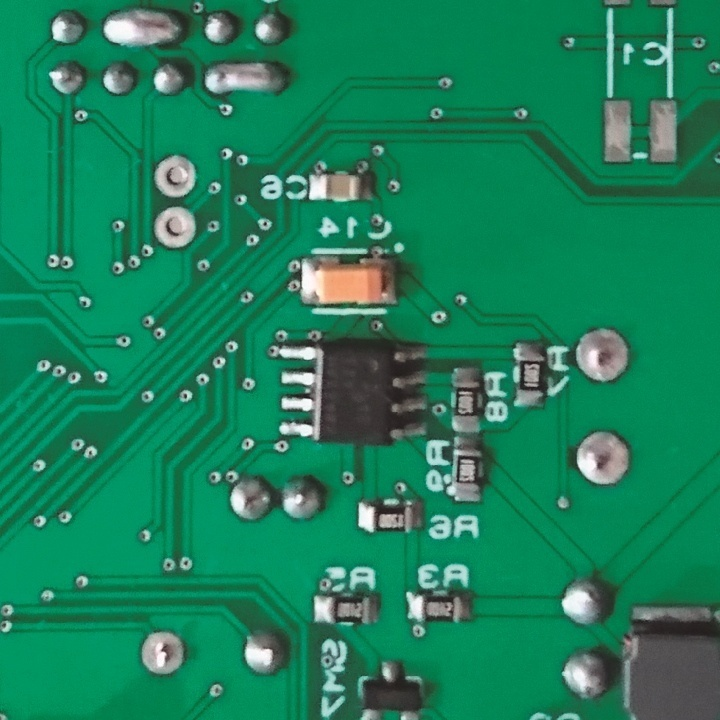F: (573, 427, 630, 489), (575, 324, 631, 386), (139, 626, 185, 677), (152, 155, 200, 197), (154, 204, 197, 250)
P: (99, 6, 185, 49), (203, 59, 291, 98)
